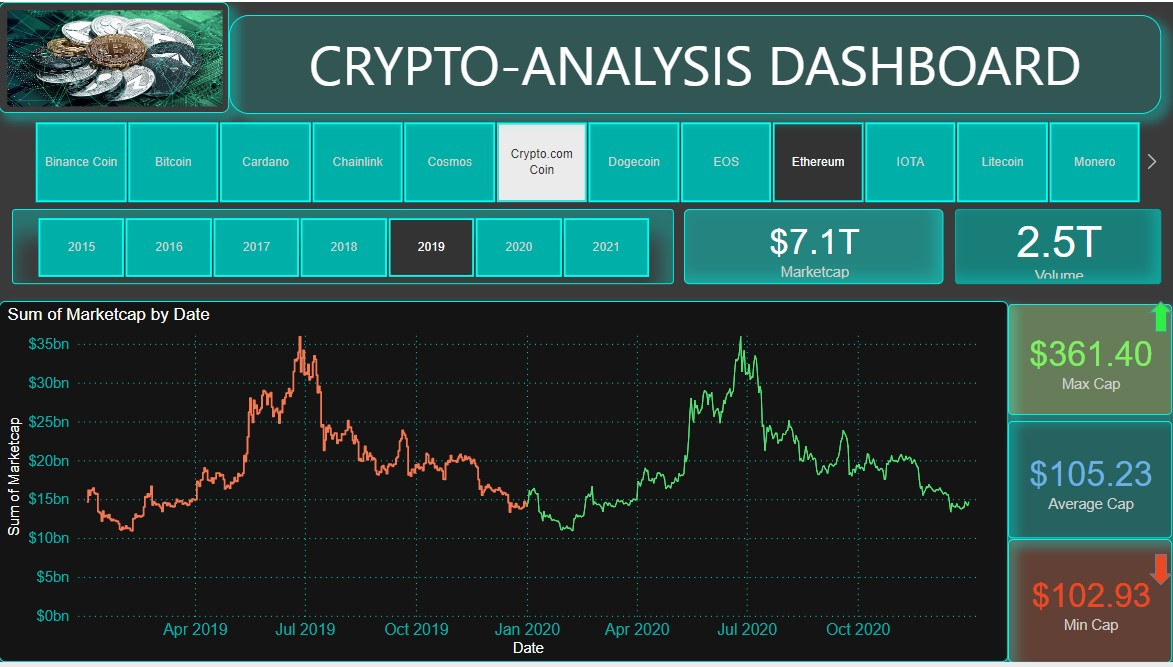

This screenshot's page, from the dashboard's own definition file:
{"tool":"powerbi","page":{"name":"Page 1","canvas":[1280,720],"ordinal":0},"visuals":[{"type":"slicer","fields":{"Values":["datasetcrypto.Name"]},"box":[13.7,124.6,1254.4,100.7],"z":0},{"type":"slicer","fields":{"Values":["datasetcrypto.Year"]},"box":[13.7,225.3,721.9,81.9],"z":1},{"type":"lineChart","fields":{"Category":["datasetcrypto.Date"],"Y":["Sum(datasetcrypto.Marketcap)"]},"box":[0,326,1100.8,394.2],"z":2},{"type":"image","box":[0,0,250.9,121.2],"z":3},{"type":"textbox","box":[250.9,13.7,1017.2,107.5],"z":4},{"type":"card","fields":{"Values":["Sum(datasetcrypto.Marketcap)"]},"box":[747.5,225.3,283.3,81.9],"z":5},{"type":"card","fields":{"Values":["Sum(datasetcrypto.Volume)"]},"box":[1042.8,225.3,225.3,81.9],"z":6},{"type":"card","fields":{"Values":["Max(datasetcrypto.High)"]},"box":[1100.8,329.4,179.2,121.2],"z":7},{"type":"card","fields":{"Values":["Min(datasetcrypto.Low)"]},"box":[1100.8,585.4,179.2,134.8],"z":8},{"type":"shape","box":[1254.4,326,25.6,34.1],"z":9},{"type":"shape","box":[1254.4,602.5,25.6,34.1],"z":10},{"type":"card","fields":{"Values":["Min(datasetcrypto.Average)"]},"box":[1100.8,457.4,179.2,128],"z":11}]}

Visuals, with their boxes in screenshot pixels (x1, y1, x2, y2), scaled from the page's 1280x720 canvas onto the 1173x667 screenshot:
slicer - datasetcrypto.Name: bbox=(13, 115, 1162, 209)
slicer - datasetcrypto.Year: bbox=(13, 209, 674, 285)
lineChart - datasetcrypto.Date x Sum(datasetcrypto.Marketcap): bbox=(0, 302, 1009, 666)
image: bbox=(0, 0, 230, 112)
textbox: bbox=(230, 13, 1162, 112)
card - Sum(datasetcrypto.Marketcap): bbox=(685, 209, 945, 285)
card - Sum(datasetcrypto.Volume): bbox=(956, 209, 1162, 285)
card - Max(datasetcrypto.High): bbox=(1009, 305, 1172, 417)
card - Min(datasetcrypto.Low): bbox=(1009, 542, 1172, 666)
shape: bbox=(1150, 302, 1172, 334)
shape: bbox=(1150, 558, 1172, 590)
card - Min(datasetcrypto.Average): bbox=(1009, 424, 1172, 542)
